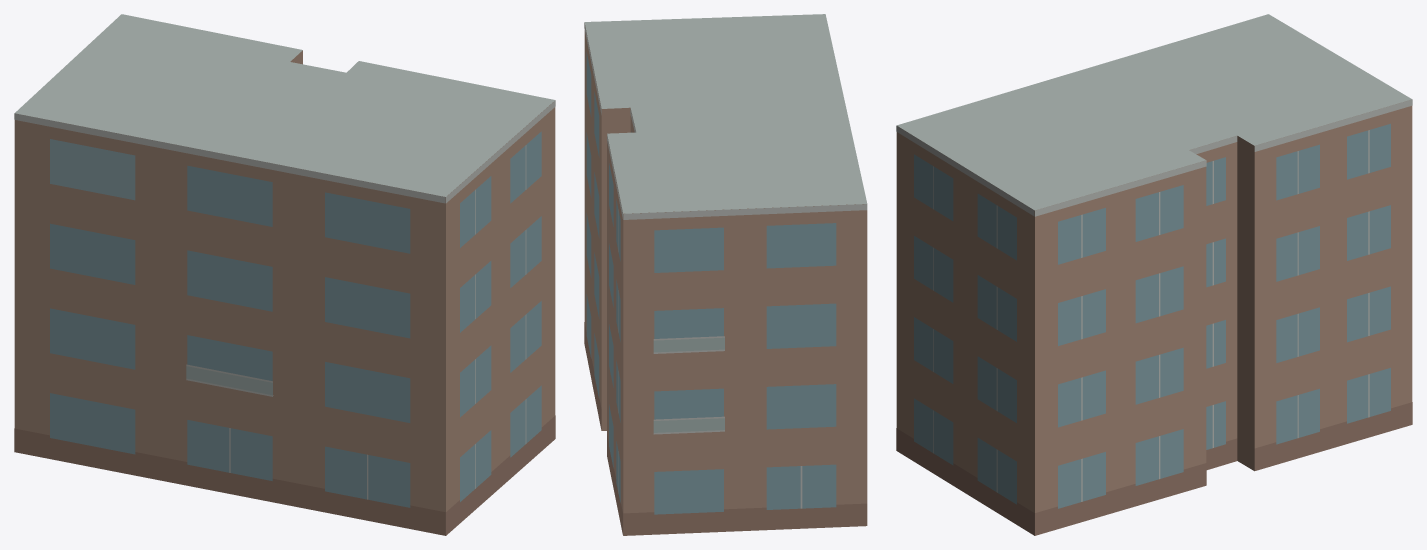
Rendered from survey-upis-32814818.glb.
3 renders of one model, left to right at view 1: azimuth 30°, elevation 25°; view 2: azimuth 150°, elevation 25°; view 3: azimuth 270°, elevation 25°, orthographic. The views are drawn at different scales.
Visible parts, largest first — view 1: survey-upis-32814818.tmp; view 2: survey-upis-32814818.tmp; view 3: survey-upis-32814818.tmp.
Part boxes in pixels (bbox=[...]): survey-upis-32814818.tmp: bbox=[14, 14, 555, 535]; survey-upis-32814818.tmp: bbox=[584, 14, 867, 535]; survey-upis-32814818.tmp: bbox=[896, 14, 1412, 535].
Size of the model in its own units: 16.32 by 12.6 by 18.11.
